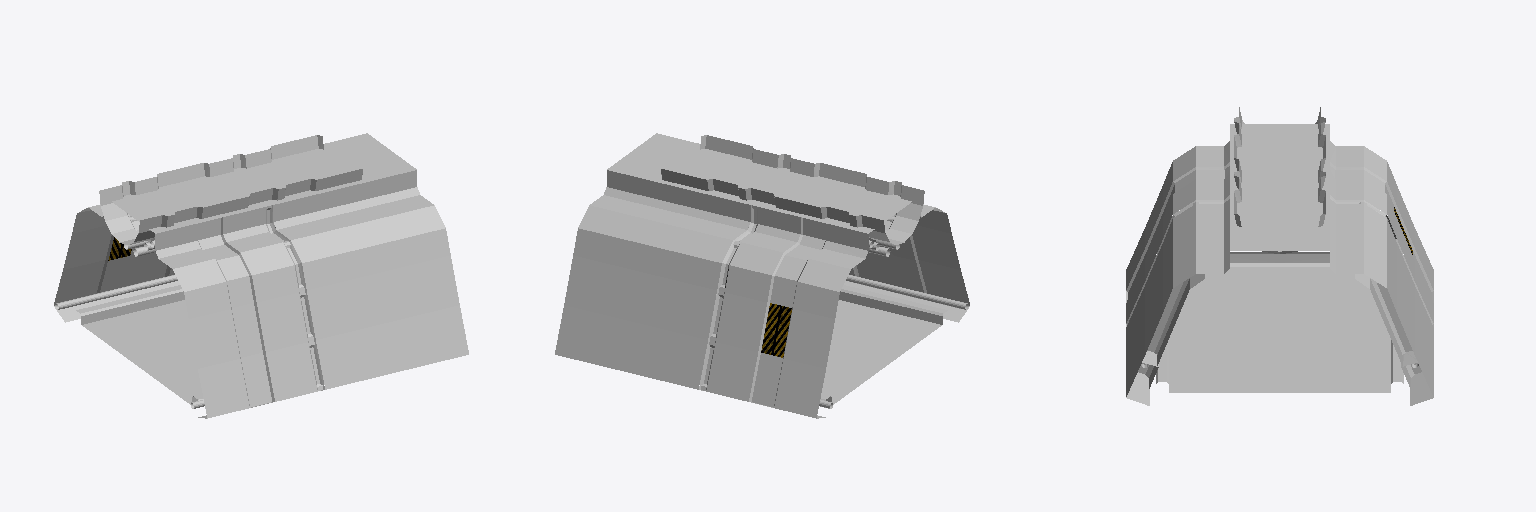
3 views of the same model, side by side, from view 1: azimuth 30°, elevation 25°; view 2: azimuth 150°, elevation 25°; view 3: azimuth 270°, elevation 25° (orthographic).
Size of the model in its own units: 2.86 by 1.68 by 2.8.
Materials: 2 (1 with a texture image).